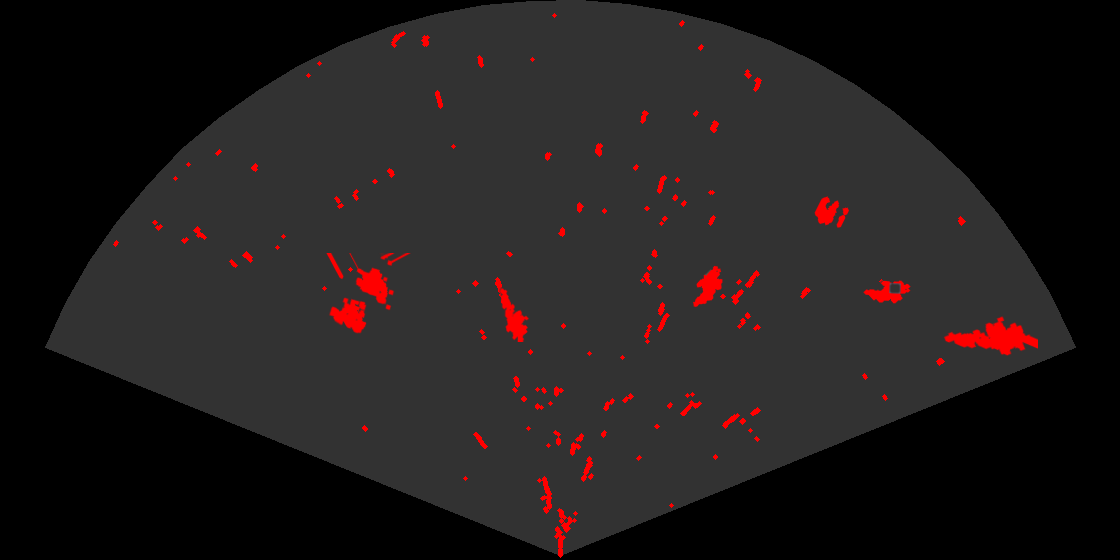AUV: (691, 264, 724, 309), (862, 279, 912, 305)
ball: (813, 195, 851, 229)
cage: (325, 253, 412, 335)
frogman: (942, 315, 1038, 357), (499, 287, 531, 342)
